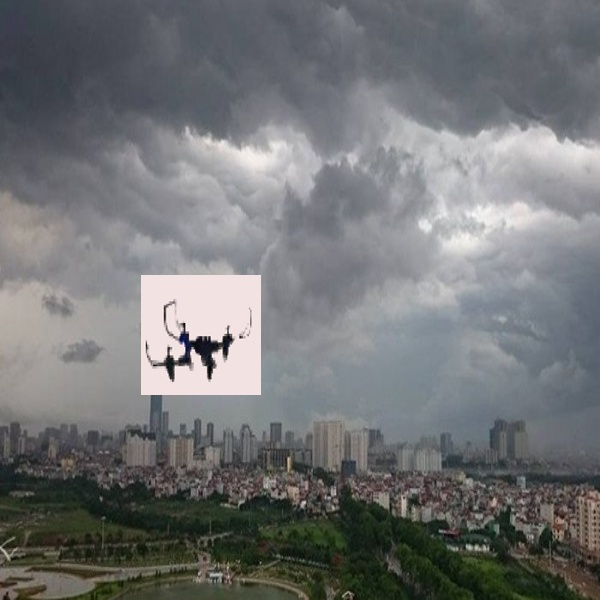drone: (148, 293, 256, 385)
